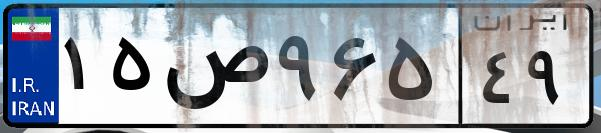1: (57, 26, 110, 100)
4: (475, 38, 525, 113)
5: (385, 28, 445, 110), (110, 28, 158, 98)
6: (330, 28, 385, 110)
9: (270, 28, 330, 110), (525, 38, 570, 115)
ص: (158, 20, 270, 120)
